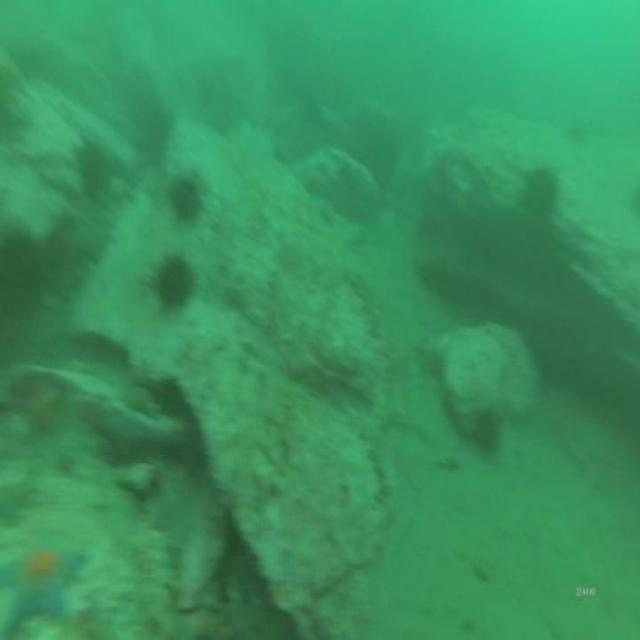echinus: (151, 247, 197, 316), (76, 137, 108, 207), (526, 157, 559, 218), (167, 166, 202, 220), (473, 403, 504, 460)
starfish: (0, 539, 92, 637), (19, 371, 70, 444)
